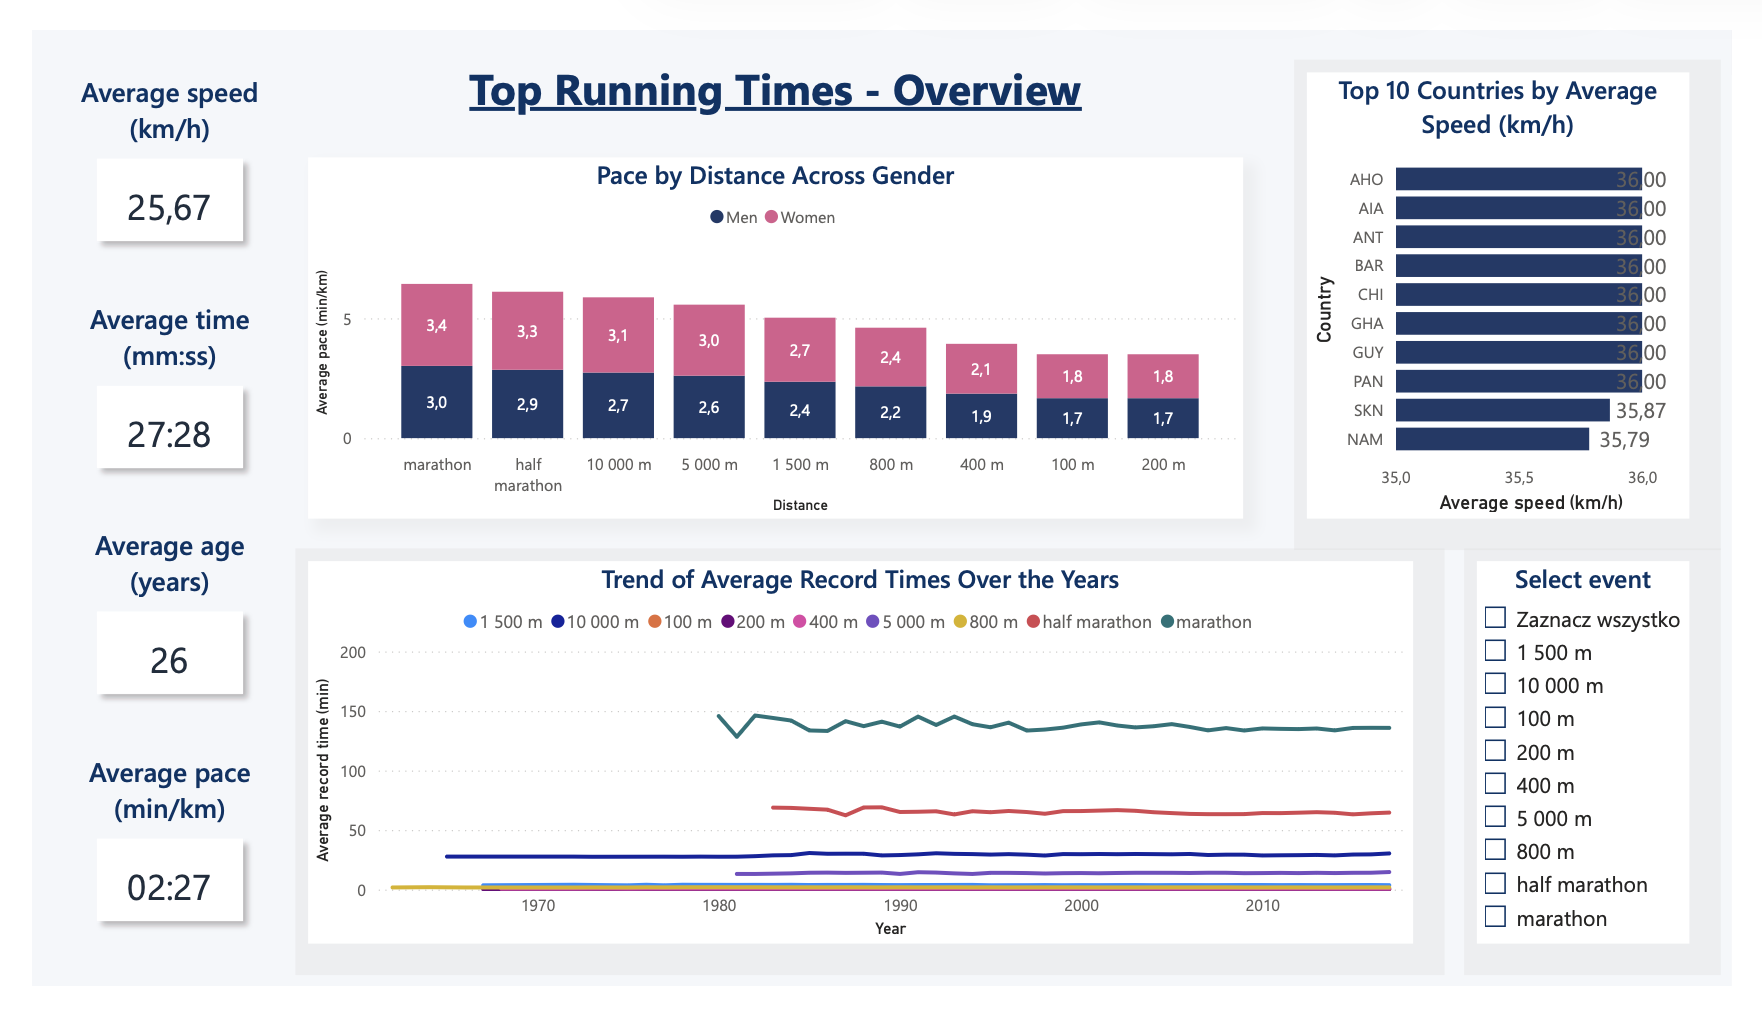

This screenshot's page, from the dashboard's own definition file:
{"tool":"powerbi","page":{"name":"Strona 1","canvas":[1280,720],"ordinal":0},"visuals":[{"type":"cardVisual","title":"Average speed (km/h)","fields":{"Data":["Avg(data.Speed_kmh)"]},"box":[32,32,144,144],"z":0},{"type":"cardVisual","title":"Average time (mm:ss)","fields":{"Data":["Event.Average Time (mm:ss)"]},"box":[32,202.7,144,144],"z":1000},{"type":"cardVisual","title":"Average age (years)","fields":{"Data":["Avg(data.Age_at_record)"]},"box":[32,373.3,144,144],"z":2000},{"type":"cardVisual","title":"Average pace (min/km)","fields":{"Data":["data.Average Pace (mm:ss)"]},"box":[32,544,144,144],"z":3000},{"type":"lineChart","title":"Trend of Average Record Times Over the Years","fields":{"Category":["data.Date.Odmiana.Hierarchia dat.Rok"],"Series":["Event.EventName"],"Y":["Event.Average Time (min)"]},"box":[208,400,832,288],"z":4000},{"type":"textbox","box":[256,16,608,64],"z":5000},{"type":"columnChart","title":"Pace by Distance Across Gender","fields":{"Y":["data.Average Pace (min/km)"],"Category":["Event.EventName"],"Series":["Gender.GenderName"]},"box":[208,96,704,272],"z":6000},{"type":"barChart","title":"Top 10 Countries by Average Speed (km/h)","fields":{"Category":["data.Country"],"Y":["data.Average Speed (Selected Distance)"]},"box":[960,32,288,336],"z":7000},{"type":"listSlicer","title":"Select event","fields":{"Values":["Event.EventName"]},"box":[1088,400,160,288],"z":8000}]}

Visuals, with their boxes in screenshot pixels (x1, y1, x2, y2), scaled from the page's 1280x720 canvas onto the 1762x1016 screenshot:
"Average speed (km/h)" cardVisual: <bbox>44, 45, 242, 248</bbox>
"Average time (mm:ss)" cardVisual: <bbox>44, 286, 242, 489</bbox>
"Average age (years)" cardVisual: <bbox>44, 527, 242, 730</bbox>
"Average pace (min/km)" cardVisual: <bbox>44, 768, 242, 971</bbox>
"Trend of Average Record Times Over the Years" lineChart: <bbox>286, 564, 1432, 971</bbox>
textbox: <bbox>352, 23, 1189, 113</bbox>
"Pace by Distance Across Gender" columnChart: <bbox>286, 135, 1255, 519</bbox>
"Top 10 Countries by Average Speed (km/h)" barChart: <bbox>1322, 45, 1718, 519</bbox>
"Select event" listSlicer: <bbox>1498, 564, 1718, 971</bbox>
